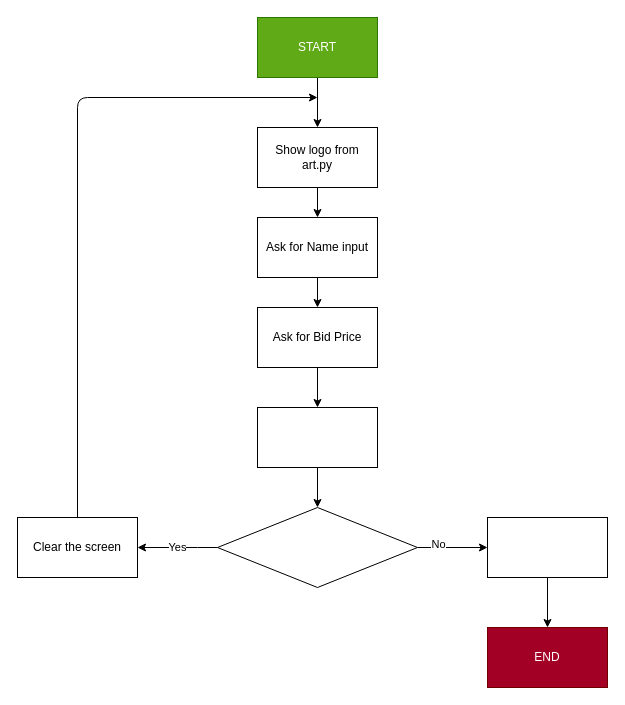
The diagram is 625 pixels wide and 705 high, and some of its shapes have lost their labels. Here are the shapes that lost their labels. From the top down, the box of each, then its label:
(256, 406, 378, 468): Add Name and Bid into a dictionary
(216, 506, 418, 588): ask if there are other users who want to bid
(486, 516, 608, 578): find the highest bid in the dictionary ans declare them as the winner
